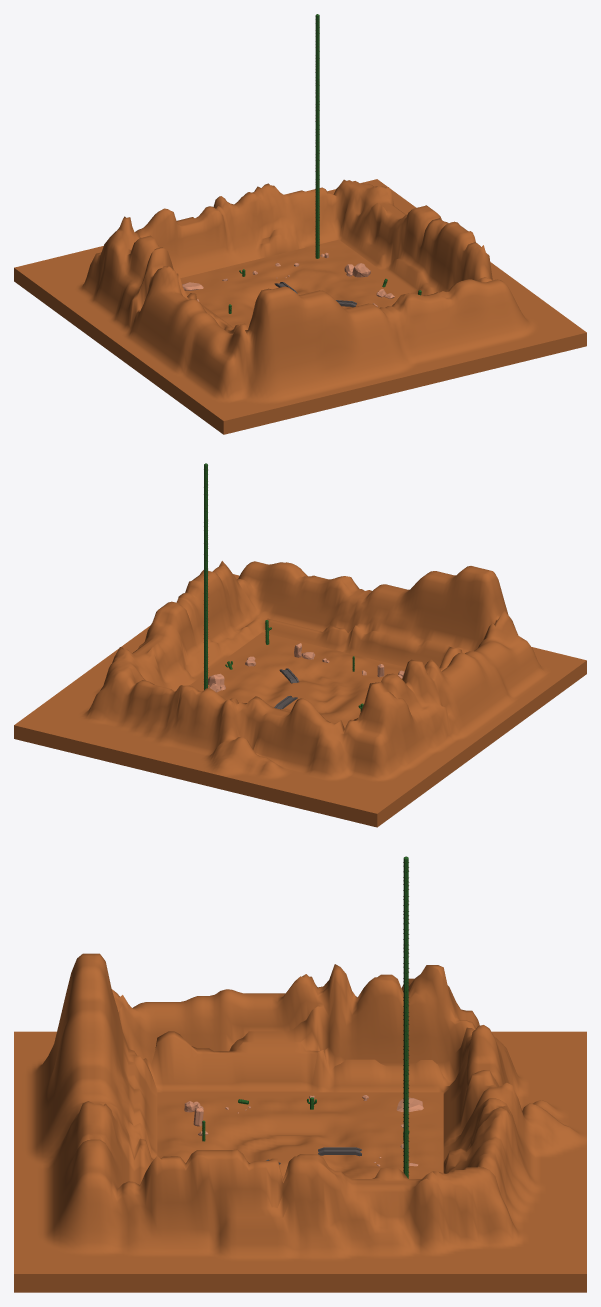
Rendered from Desert.glb.
The picture shows the model from 3 angles, top to bottom: view 1: azimuth 30°, elevation 25°; view 2: azimuth 150°, elevation 25°; view 3: azimuth 270°, elevation 25°; orthographic projection. The views are drawn at different scales.
Visible parts, largest first — view 1: Boundary, Sand, Cactus.005; view 2: Boundary, Sand, Cactus.005; view 3: Boundary, Sand, Cactus.005.
Part boxes in pixels (x1,y1,x2,y2): Boundary: [14, 179, 586, 434]; Sand: [180, 239, 411, 327]; Cactus.005: [315, 14, 319, 258]; Boundary: [14, 561, 586, 827]; Sand: [189, 632, 405, 728]; Cactus.005: [204, 463, 208, 689]; Boundary: [14, 953, 586, 1292]; Sand: [157, 1092, 443, 1179]; Cactus.005: [403, 856, 409, 1178].
Size of the model in its own units: 400 by 271 by 400.
